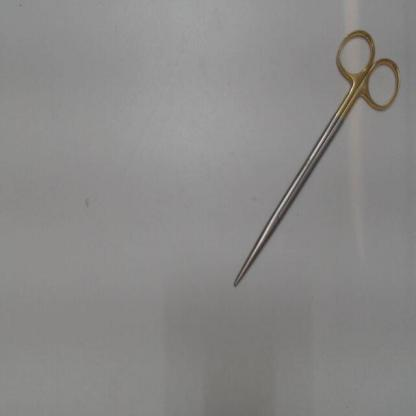7 Metzenbaum Scissors: (234, 26, 402, 289)
